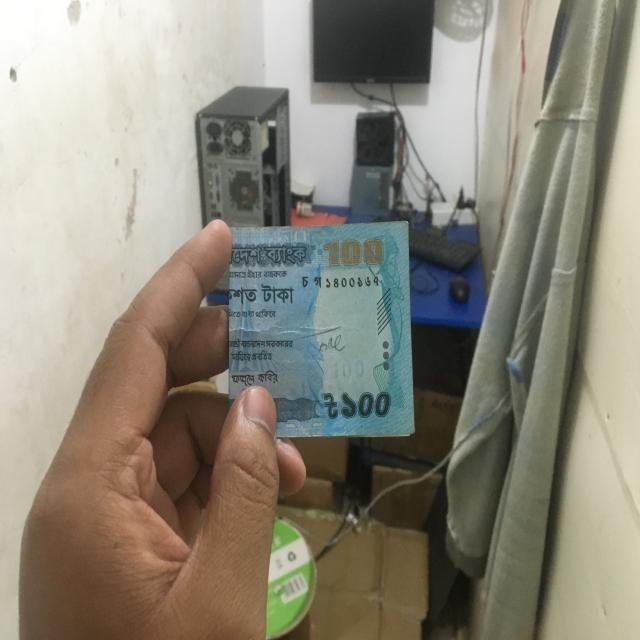Taka: (227, 221, 415, 435)
